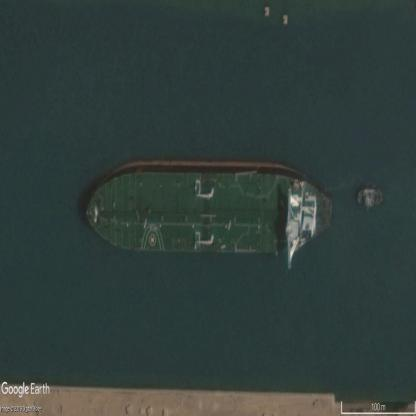ship: (86, 160, 333, 269), (357, 187, 382, 208)
